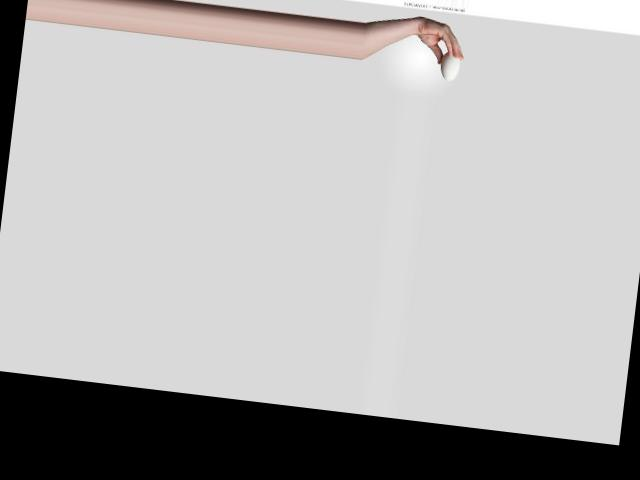egg: (438, 50, 461, 82)
